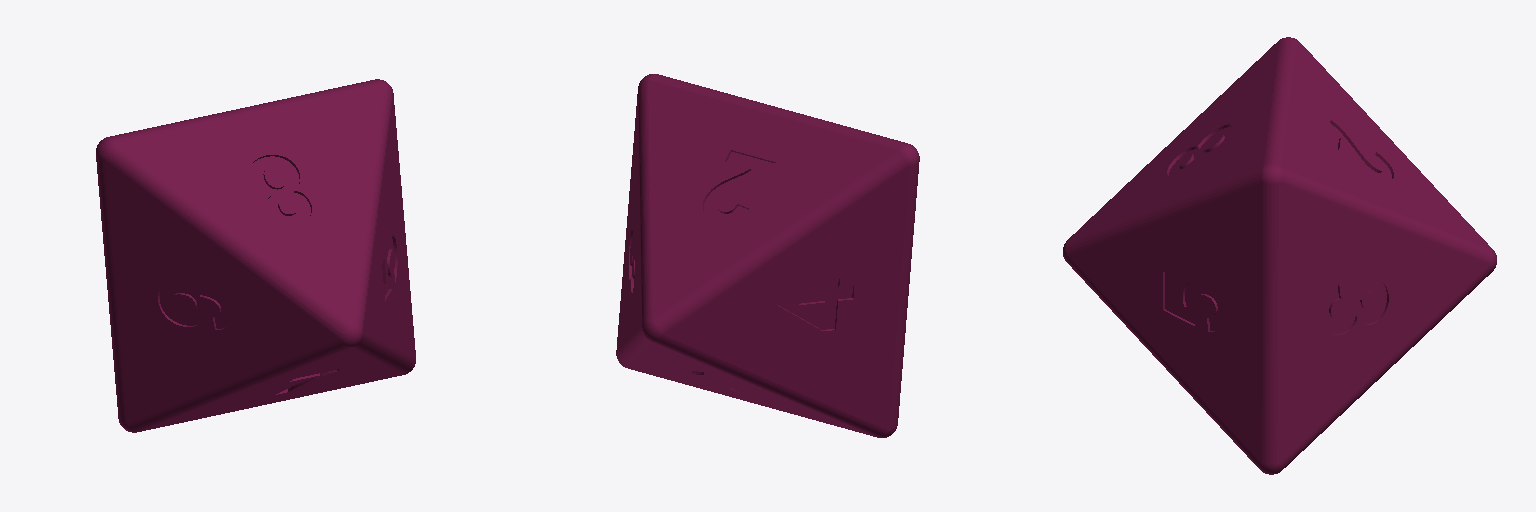
Rendered from dado8carasap.obj.
3 renders of one model, left to right at view 1: azimuth 30°, elevation 25°; view 2: azimuth 150°, elevation 25°; view 3: azimuth 270°, elevation 25°, orthographic.
Parts seen in each view (by area): view 1: 8_faces_chiffres; view 2: 8_faces_chiffres; view 3: 8_faces_chiffres.
Part boxes in pixels (x1,y1,x2,y2): 8_faces_chiffres: (96,79,415,432); 8_faces_chiffres: (616,74,919,437); 8_faces_chiffres: (1063,37,1496,474).
Bounding box in the file's own units: 12.64 × 11.71 × 15.46.